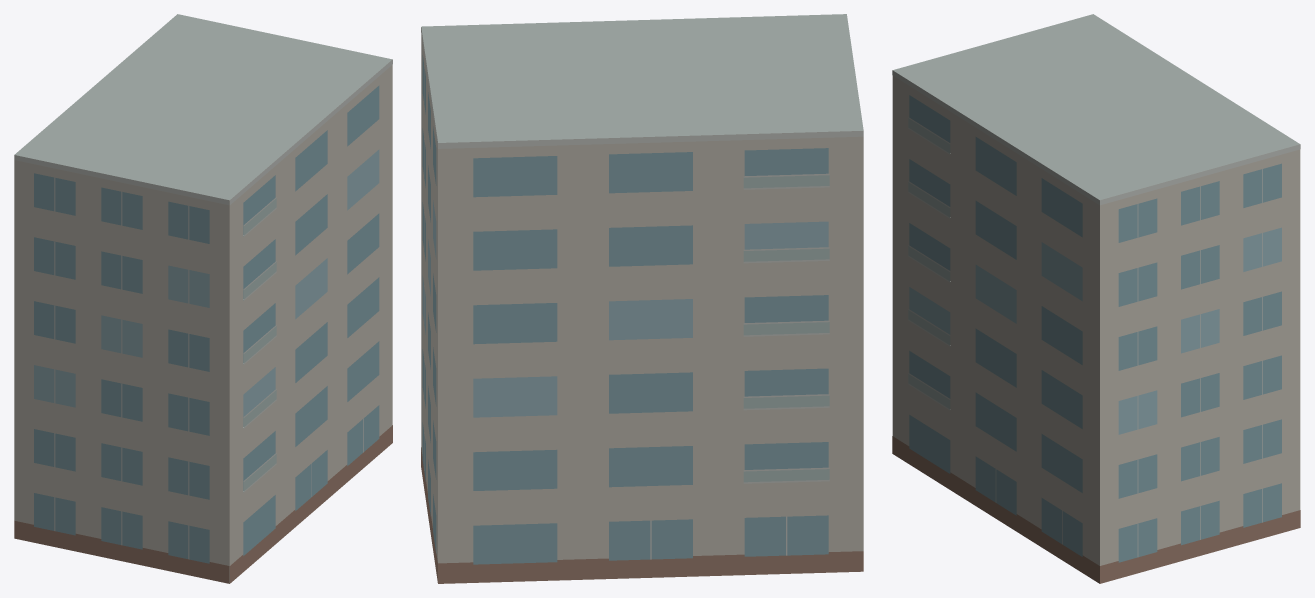
Rendered from survey-upis-32598301.glb.
The picture shows the model from 3 angles, left to right: view 1: azimuth 30°, elevation 25°; view 2: azimuth 150°, elevation 25°; view 3: azimuth 270°, elevation 25°; orthographic projection. The views are drawn at different scales.
Parts seen in each view (by area): view 1: survey-upis-32598301.tmp; view 2: survey-upis-32598301.tmp; view 3: survey-upis-32598301.tmp.
Boxes of the visible parts, box(x1,y1,x2,y2) form: survey-upis-32598301.tmp: box(14, 14, 392, 583); survey-upis-32598301.tmp: box(421, 14, 863, 583); survey-upis-32598301.tmp: box(892, 14, 1300, 583).
Size of the model in its own units: 19.07 by 18.3 by 17.64.
